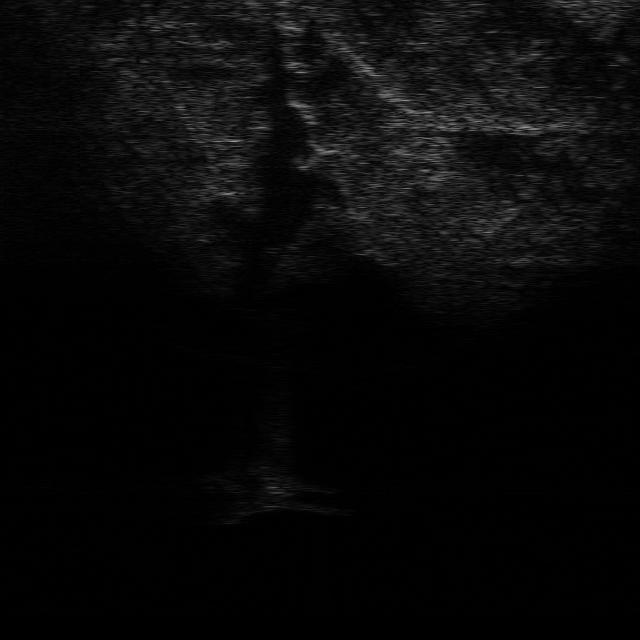plane: (215, 463, 340, 519)
